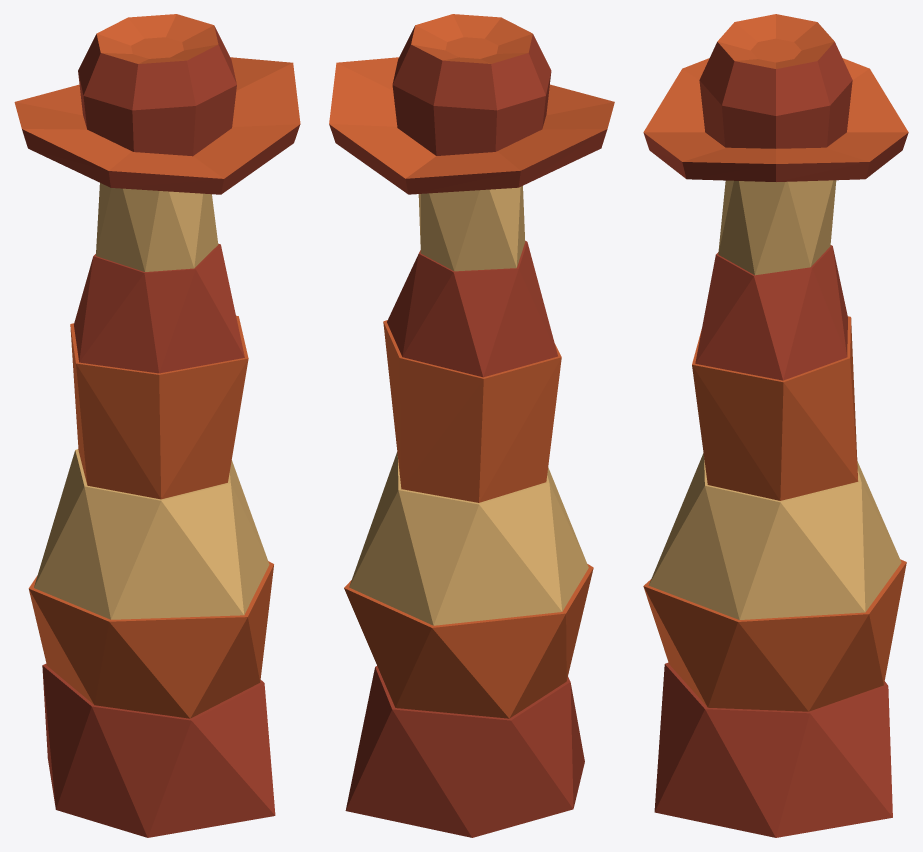
The model's file is Rock_Spire_C.fbx.
The picture shows the model from 3 angles, left to right: view 1: azimuth 30°, elevation 25°; view 2: azimuth 150°, elevation 25°; view 3: azimuth 270°, elevation 25°; orthographic projection.
Visible parts, largest first — view 1: Rock_Spire_C; view 2: Rock_Spire_C; view 3: Rock_Spire_C.
Boxes of the visible parts, x1,y1,x2,y2 form: Rock_Spire_C: [14, 14, 300, 837]; Rock_Spire_C: [329, 14, 614, 837]; Rock_Spire_C: [643, 14, 908, 837].
Bounding box in the file's own units: 4.62 × 12.14 × 3.93.
